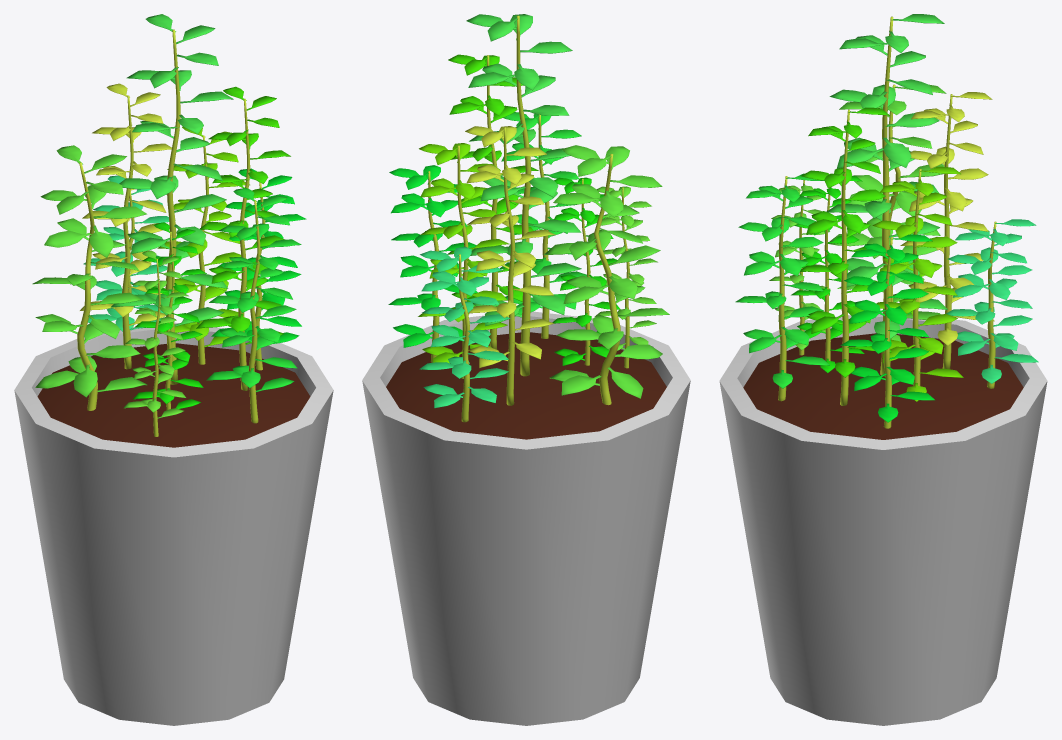
File: Potted plant 1.fbx
3 views of the same model, side by side, from view 1: azimuth 30°, elevation 25°; view 2: azimuth 150°, elevation 25°; view 3: azimuth 270°, elevation 25° (orthographic). The views are drawn at different scales.
Visible parts, largest first — view 1: Pot, Soil, Leaf.001, Leaf, Leaf.006, Leaf.007, Leaf.004, Leaf.008, Leaf.003, Leaf.009, Leaf.002, Leaf.005 (+7 smaller); view 2: Pot, Soil, Leaf.001, Leaf, Leaf.005, Leaf.004, Leaf.009, Leaf.008, Leaf.007, Leaf.006, Leaf.003, Leaf.002 (+7 smaller); view 3: Pot, Soil, Leaf, Leaf.009, Leaf.005, Leaf.006, Leaf.007, Leaf.008, Leaf.004, Leaf.001, Leaf.003, Stem.007 (+7 smaller).
Part boxes in pixels (x1,y1,x2,y2): Pot: [14, 322, 333, 725]; Soil: [37, 343, 310, 447]; Leaf.001: [32, 145, 147, 397]; Leaf: [110, 14, 233, 326]; Leaf.006: [206, 188, 301, 392]; Leaf.007: [196, 86, 290, 344]; Leaf.004: [80, 83, 171, 325]; Leaf.008: [157, 126, 249, 347]; Leaf.003: [133, 222, 206, 408]; Leaf.009: [211, 168, 306, 343]; Leaf.002: [123, 250, 188, 418]; Leaf.005: [83, 175, 175, 331]; Pot: [362, 311, 690, 725]; Soil: [386, 332, 666, 439]; Leaf.001: [544, 145, 669, 398]; Leaf: [466, 14, 581, 326]; Leaf.005: [419, 246, 510, 408]; Leaf.004: [465, 126, 555, 367]; Leaf.009: [388, 165, 477, 347]; Leaf.008: [418, 143, 509, 363]; Leaf.007: [447, 54, 538, 306]; Leaf.006: [500, 112, 590, 316]; Leaf.003: [552, 177, 620, 365]; Leaf.002: [594, 186, 657, 350]; Pot: [719, 312, 1047, 725]; Soil: [743, 333, 1023, 439]; Leaf: [826, 14, 947, 338]; Leaf.009: [840, 234, 934, 422]; Leaf.005: [946, 219, 1038, 383]; Leaf.006: [735, 173, 829, 388]; Leaf.007: [800, 107, 891, 377]; Leaf.008: [872, 166, 963, 401]; Leaf.004: [900, 92, 994, 345]; Leaf.001: [828, 84, 946, 341]; Leaf.003: [791, 176, 864, 372]; Stem.007: [840, 109, 849, 405].
Size of the model in its own units: 49.73 by 111 by 49.73.
